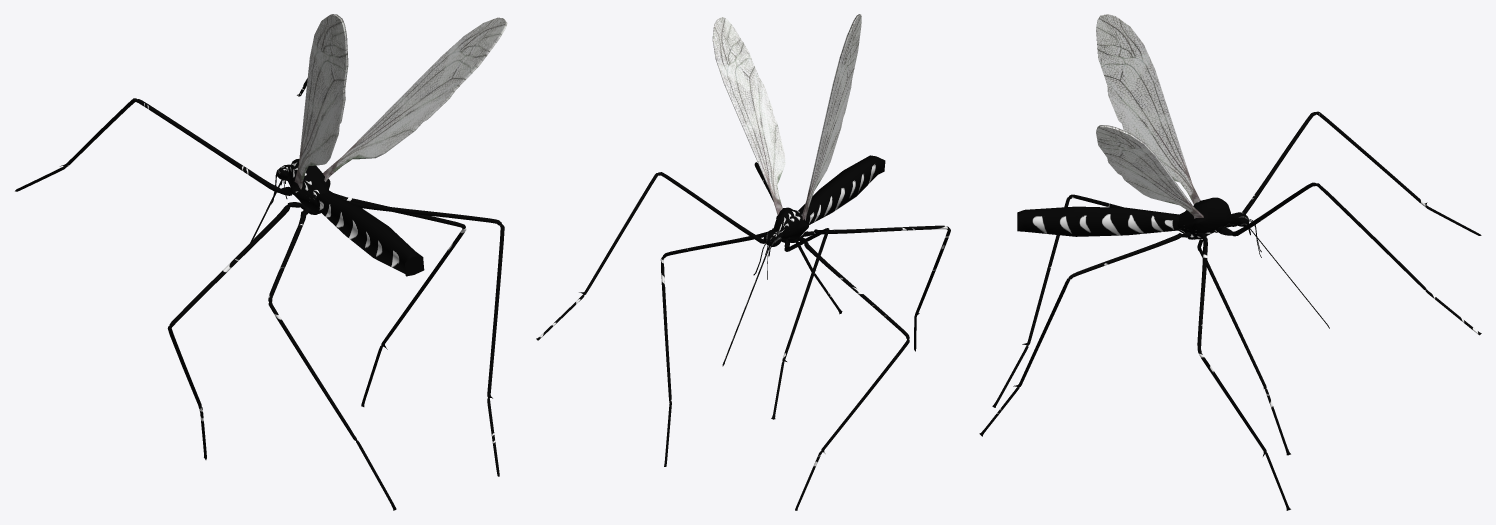
File: mosquite.fbx
3 views of the same model, side by side, from view 1: azimuth 30°, elevation 25°; view 2: azimuth 150°, elevation 25°; view 3: azimuth 270°, elevation 25° (orthographic). The views are drawn at different scales.
Visible parts, largest first — view 1: MOSQALA01, MOSQALA, MOSQCUL, NYAMUKK1, MOSQPA31, MOSQPA34, MOSQPA17, MOSQPA18, MOSQPA35, MOSQPA15; view 2: MOSQALA01, MOSQALA, MOSQCUL, NYAMUKK1, MOSQPA34, MOSQPA36, MOSQPA13, MOSQPA15, MOSQPA14, MOSQPA33, MOSQPA32; view 3: MOSQALA, MOSQCUL, MOSQALA01, NYAMUKK1, MOSQPA14, MOSQPA31, MOSQPA18, MOSQPA33.
Part boxes in pixels (x1,y1,x2,y2): MOSQALA01: (322,17,507,181); MOSQALA: (294,14,348,189); MOSQCUL: (316,192,424,276); NYAMUKK1: (279,159,330,214); MOSQPA31: (136,99,280,192); MOSQPA34: (169,205,290,327); MOSQPA17: (487,224,504,398); MOSQPA18: (348,201,501,225); MOSQPA35: (268,302,358,442); MOSQPA15: (381,228,466,349); MOSQALA01: (712,17,785,214); MOSQALA: (802,14,861,220); MOSQCUL: (798,155,885,224); NYAMUKK1: (772,207,814,247); MOSQPA34: (804,242,909,339); MOSQPA36: (814,225,949,234); MOSQPA13: (658,172,764,243); MOSQPA15: (660,256,671,400); MOSQPA14: (579,173,658,294); MOSQPA33: (821,339,909,454); MOSQPA32: (782,230,828,361); MOSQALA: (1096,14,1200,204); MOSQCUL: (1017,206,1178,236); MOSQALA01: (1096,125,1203,218); NYAMUKK1: (1177,197,1232,239); MOSQPA14: (1315,183,1426,290); MOSQPA31: (1232,112,1316,226); MOSQPA18: (1068,233,1182,279); MOSQPA33: (1199,250,1266,391).
Bounding box in the file's own units: 7.52 × 12.36 × 12.41.
